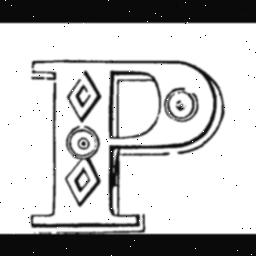p: (20, 53, 230, 233)
